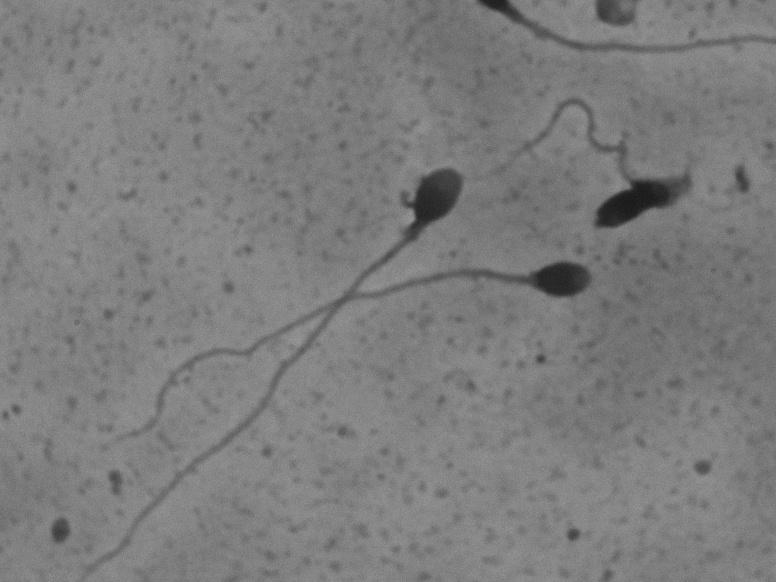Abnormal: (496, 88, 724, 238)
Normal: (86, 139, 478, 570), (87, 253, 609, 453)
